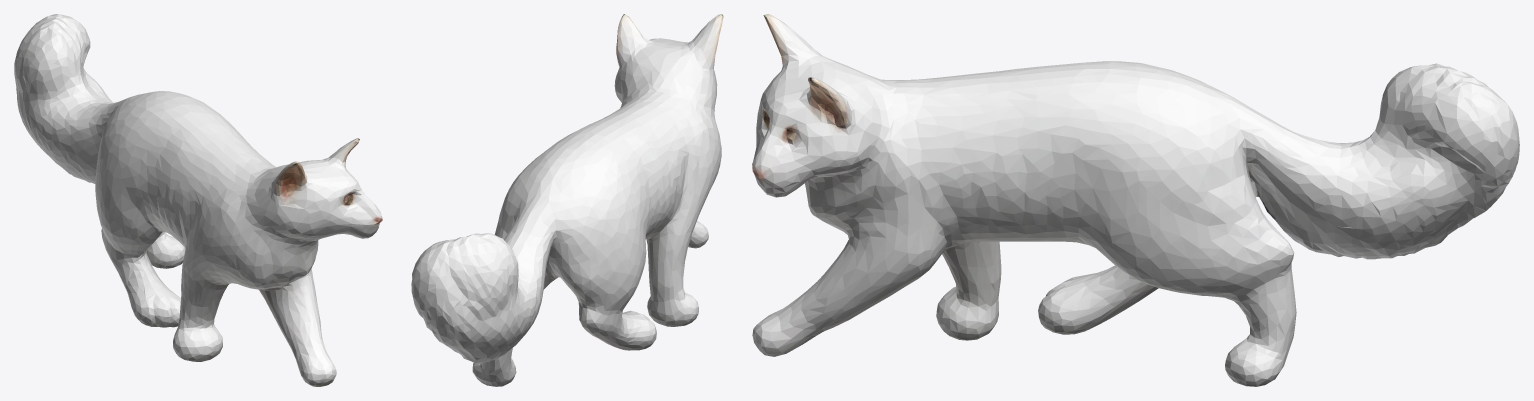
3 renders of one model, left to right at view 1: azimuth 30°, elevation 25°; view 2: azimuth 150°, elevation 25°; view 3: azimuth 270°, elevation 25°, orthographic. The views are drawn at different scales.
Visible parts, largest first — view 1: geometry_0; view 2: geometry_0; view 3: geometry_0.
Part boxes in pixels (left/top/right/bottom): geometry_0: left=14, top=14, right=382, bottom=386; geometry_0: left=411, top=14, right=723, bottom=386; geometry_0: left=752, top=14, right=1519, bottom=386.
Bounding box in the file's own units: 0.2899 × 0.4812 × 0.9977.
1 material, 1 textured.
